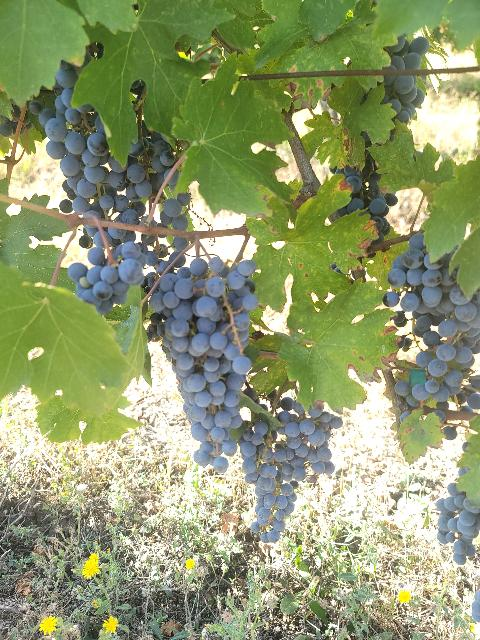grapes: (149, 256, 258, 465), (29, 61, 145, 224), (382, 234, 479, 338), (240, 421, 306, 542), (68, 241, 145, 315), (278, 398, 342, 481)
